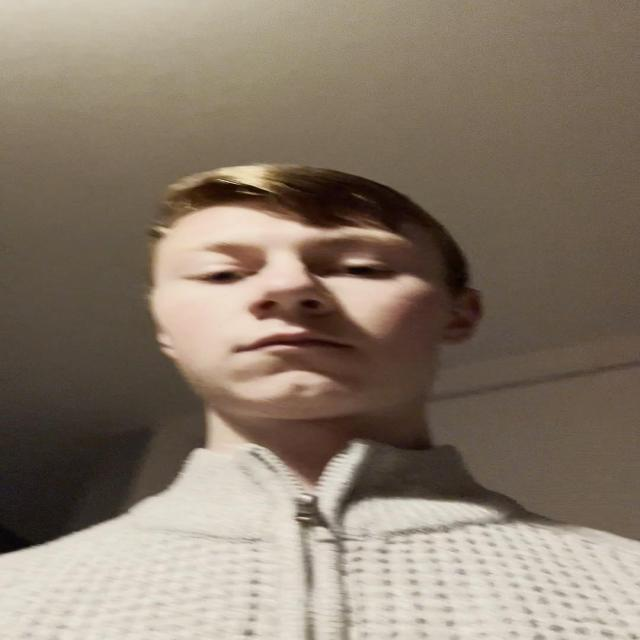no hat: (146, 153, 478, 458)
